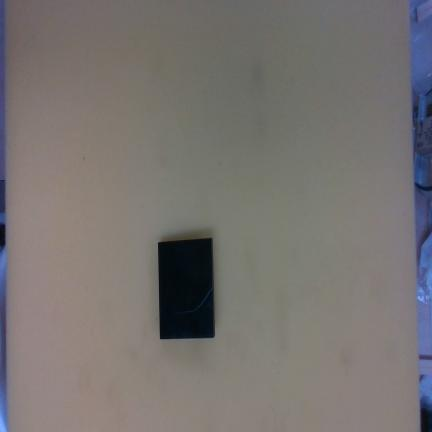tile: (158, 238, 214, 339)
